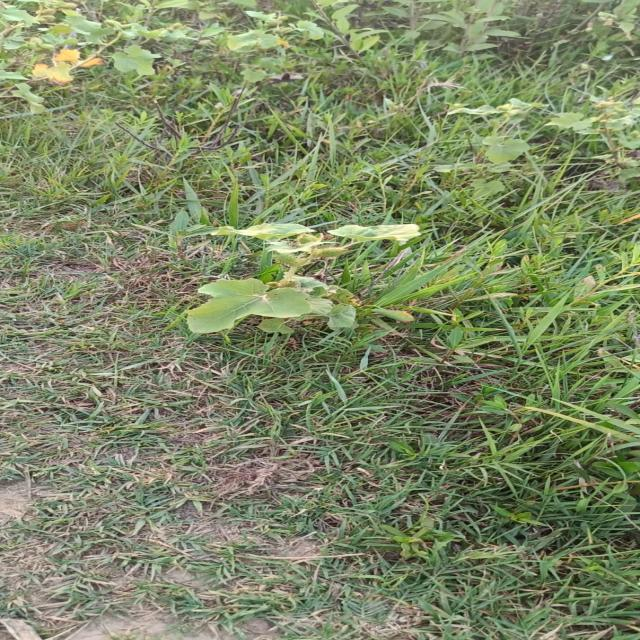plant: (185, 224, 421, 334)
